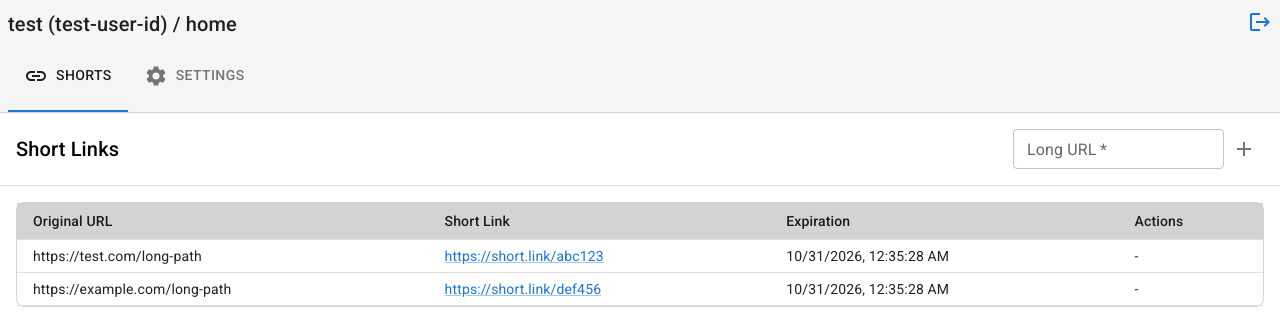
Test: home component › when on the default view: shorts › given some existent shorts › when creating a new short with NO success › when the service throw an error › should report to the user
The image size is (1280, 324).
Type "http://localhost:3000/long_path?title=long" into the field labelled "Long URL". click: (1118, 149)
box: [1013,129,1224,169]
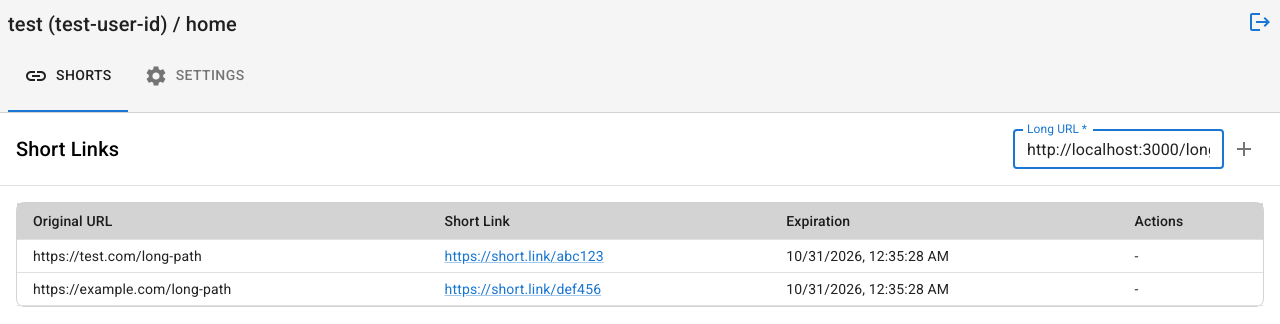
Click the button. click: click(1244, 149)
box: [1224,129,1264,169]
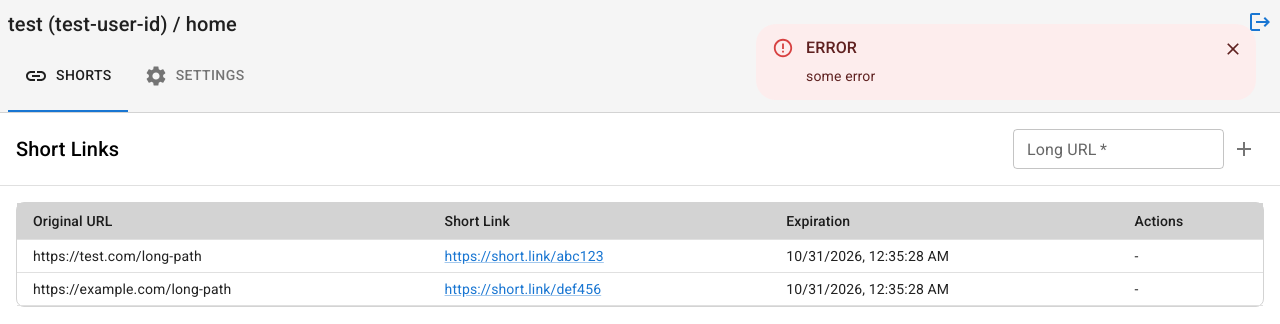
Now the text "ERROR some error" is shown, box [806,30,875,94]
